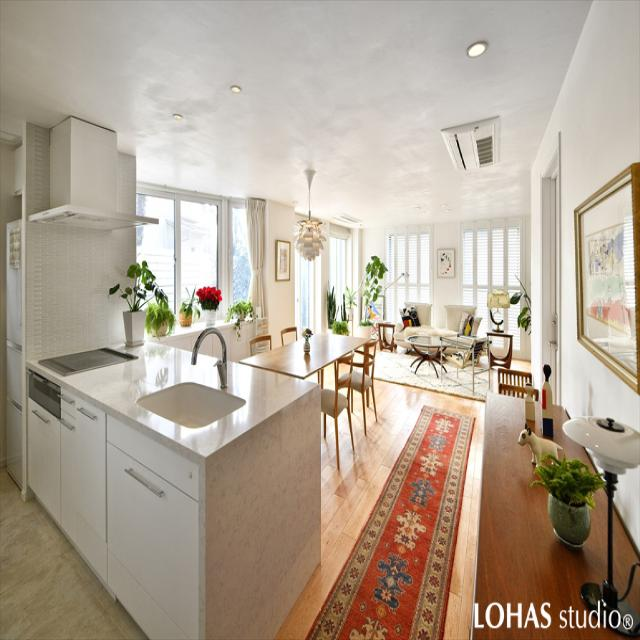vintage chair: (324, 353, 356, 462), (355, 338, 380, 433)
vintage desk: (405, 334, 450, 376)
